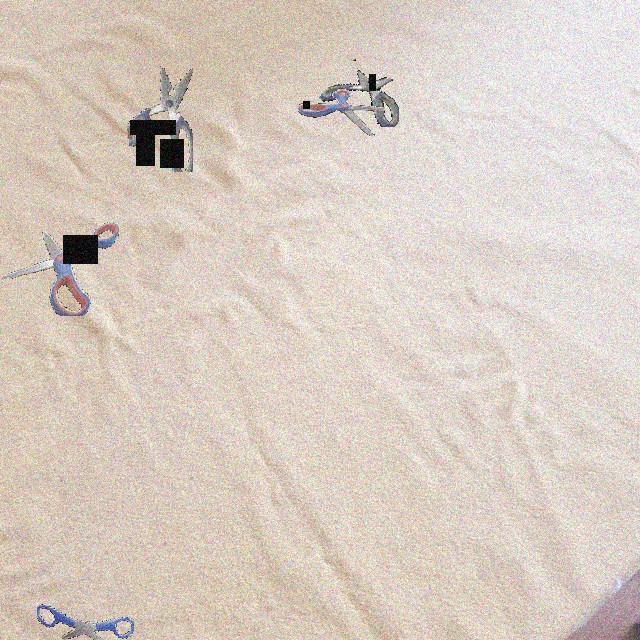scissors: (2, 222, 119, 316), (127, 66, 193, 172), (319, 59, 399, 127), (298, 89, 385, 136), (37, 604, 134, 640)
